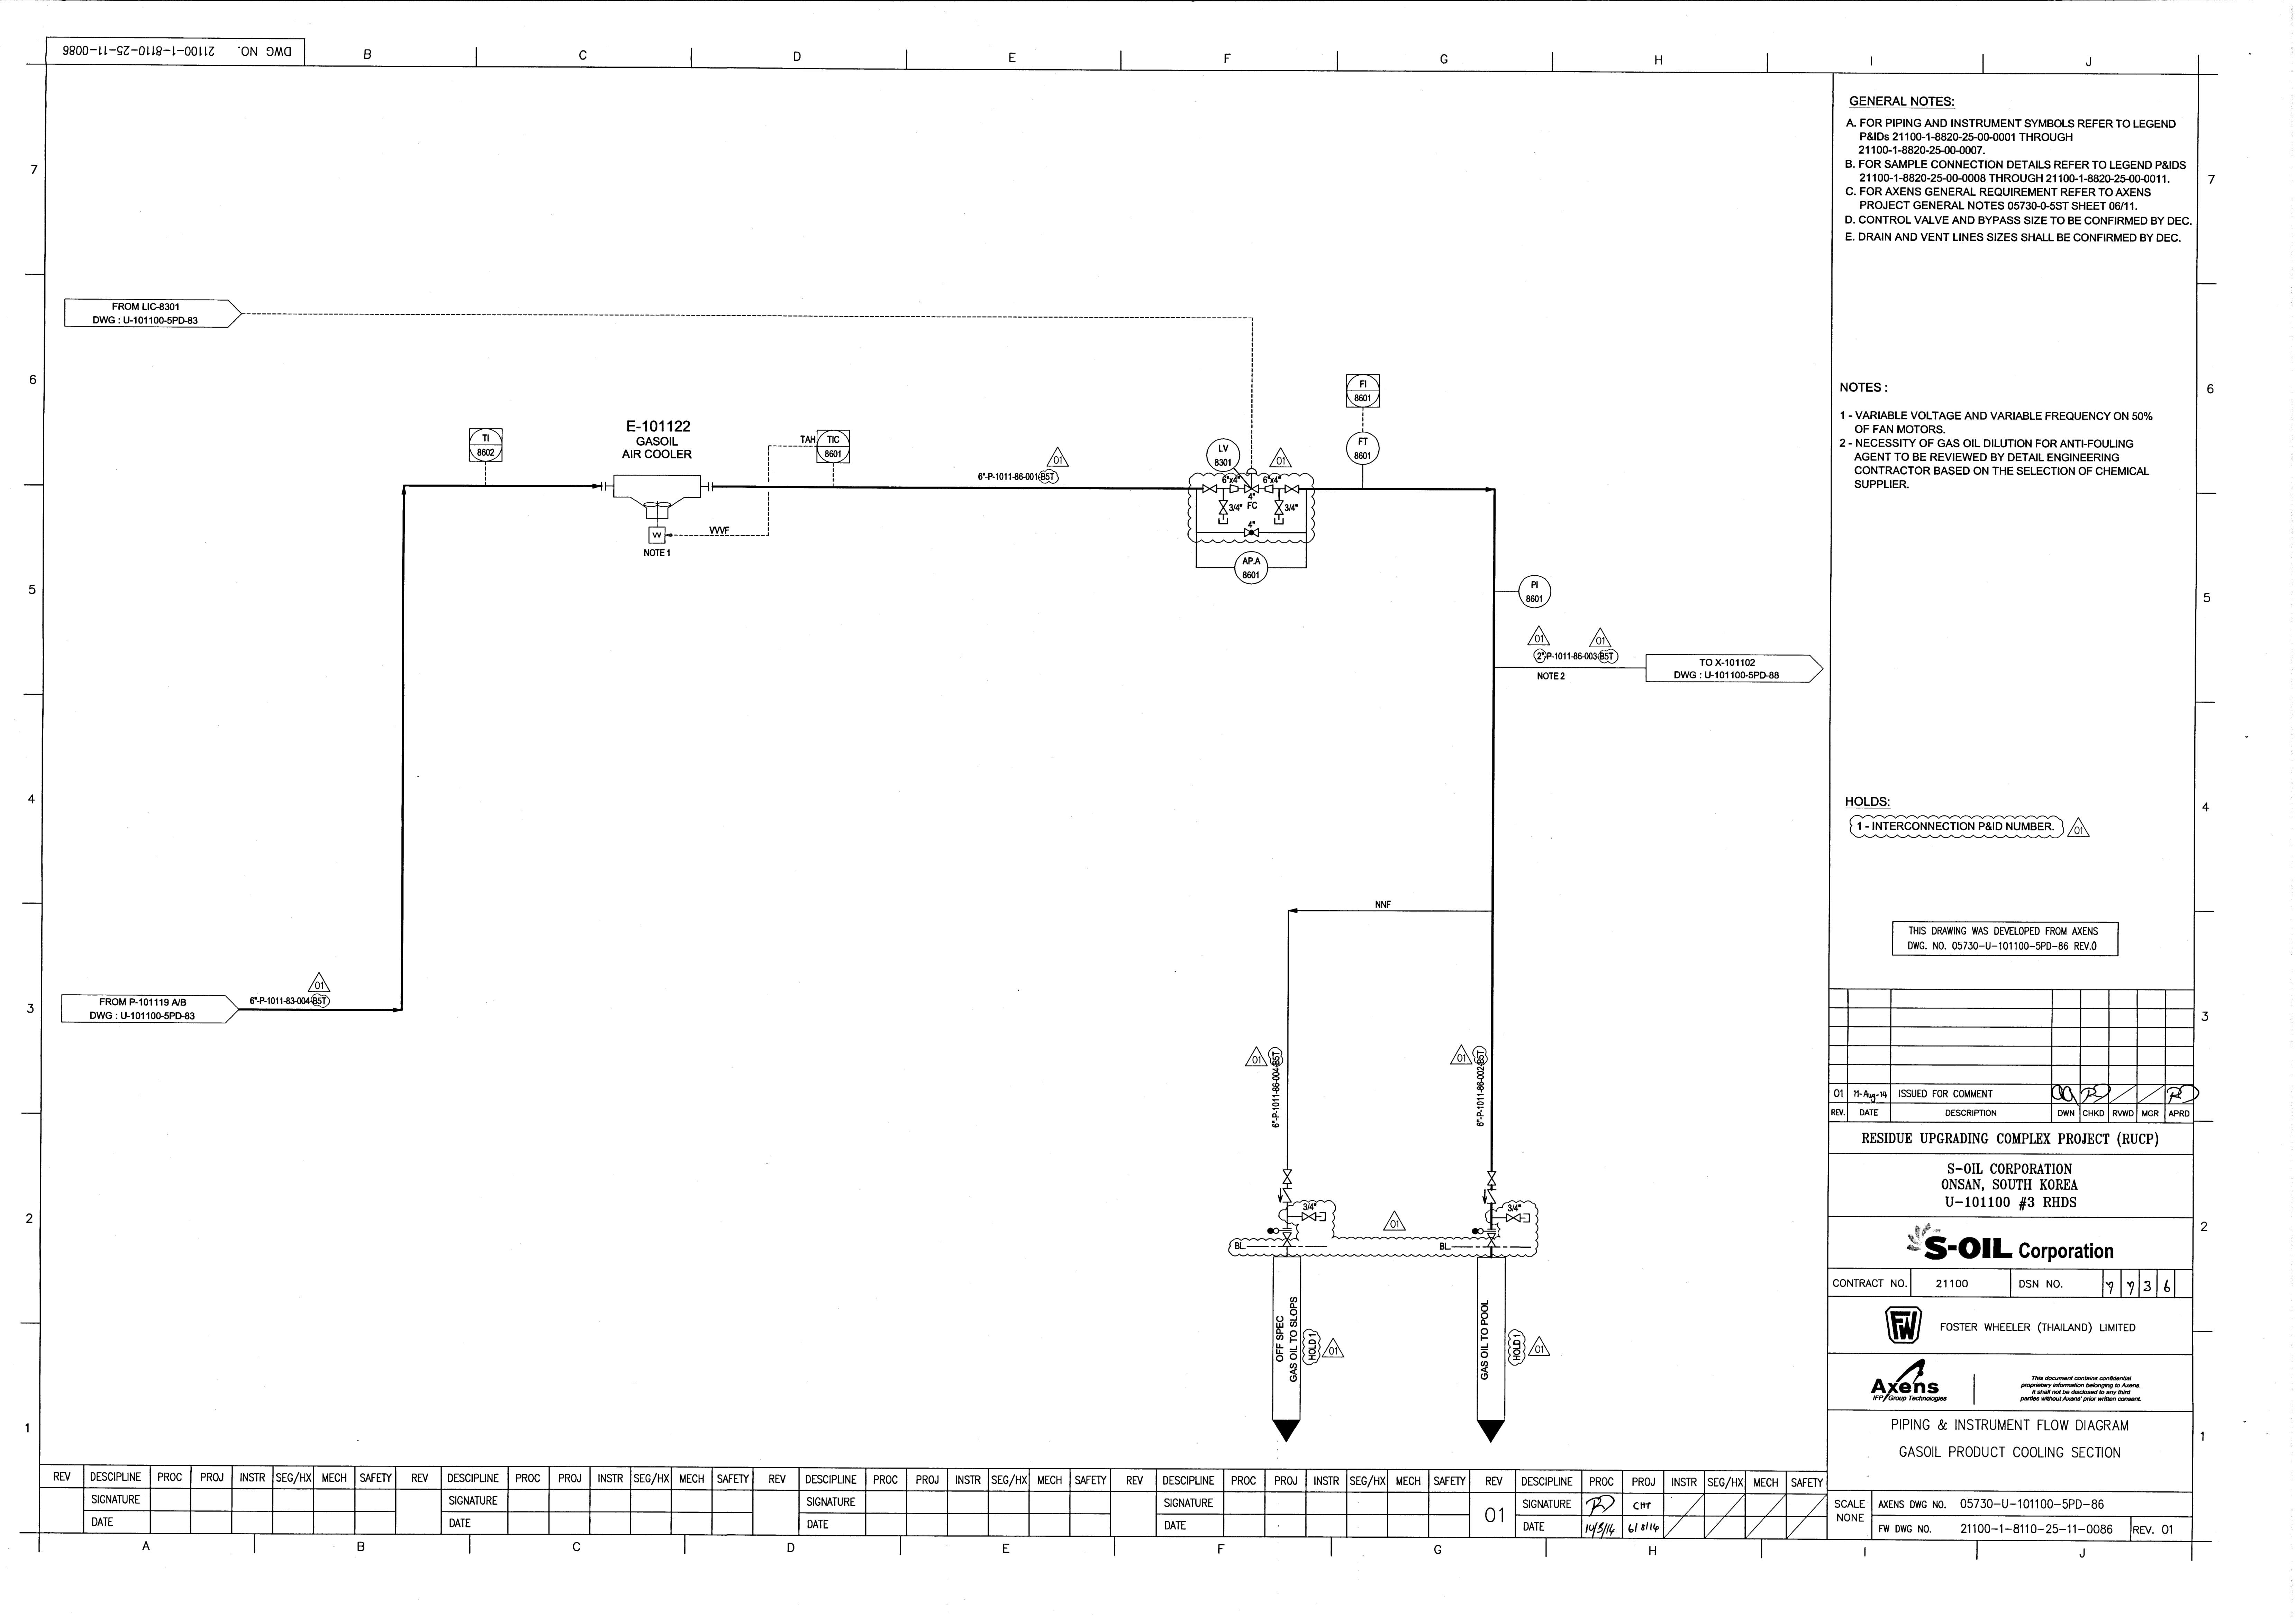NAS: (1483, 1189, 1499, 1206), (1278, 1187, 1294, 1205), (1266, 1224, 1287, 1235), (1282, 1226, 1292, 1236), (1485, 1226, 1497, 1235), (1471, 1228, 1485, 1235)
butterfly0: (1243, 527, 1261, 538)
reduce0: (1228, 483, 1240, 494)
reduce180: (1264, 483, 1275, 494)
valvecontrol90: (1242, 468, 1261, 494)
valvegate0: (1299, 1210, 1319, 1222), (1504, 1212, 1522, 1224), (1201, 483, 1219, 494), (1284, 483, 1301, 494)
valvegate90: (1217, 499, 1229, 517), (1273, 499, 1285, 517), (1485, 1233, 1497, 1249), (1282, 1168, 1292, 1185), (1282, 1231, 1292, 1249), (1487, 1170, 1497, 1187)
